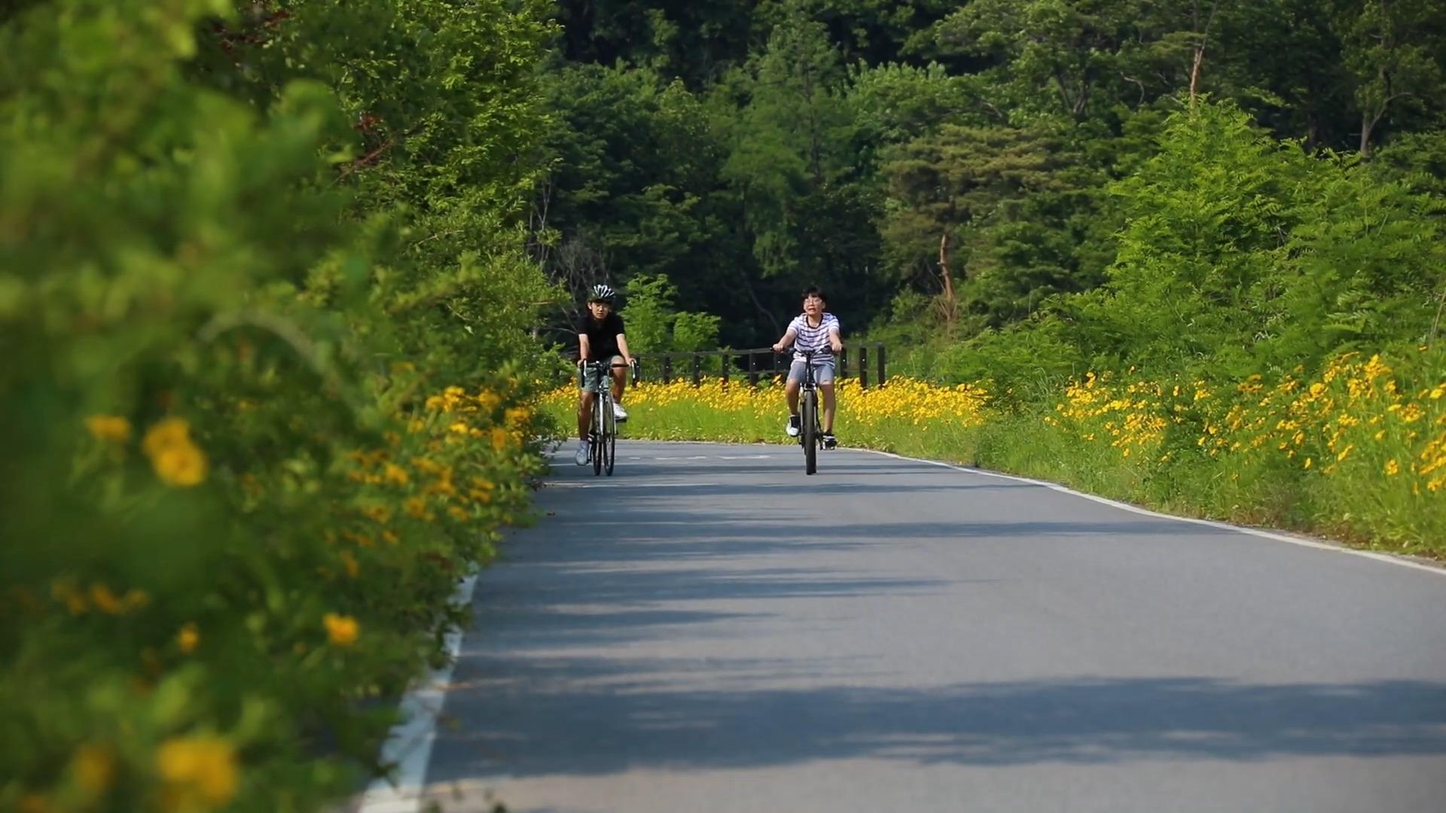bicyclist: (769, 284, 843, 475), (573, 284, 641, 477)
helmet: (586, 284, 616, 320)
no-helmet: (801, 284, 826, 316)
